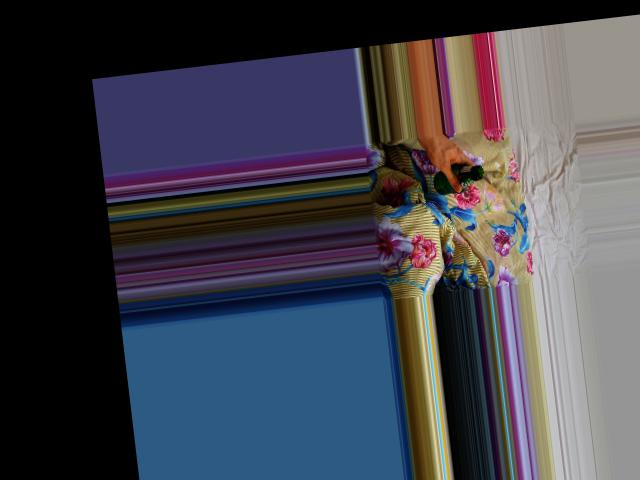beer: (431, 159, 484, 195)
